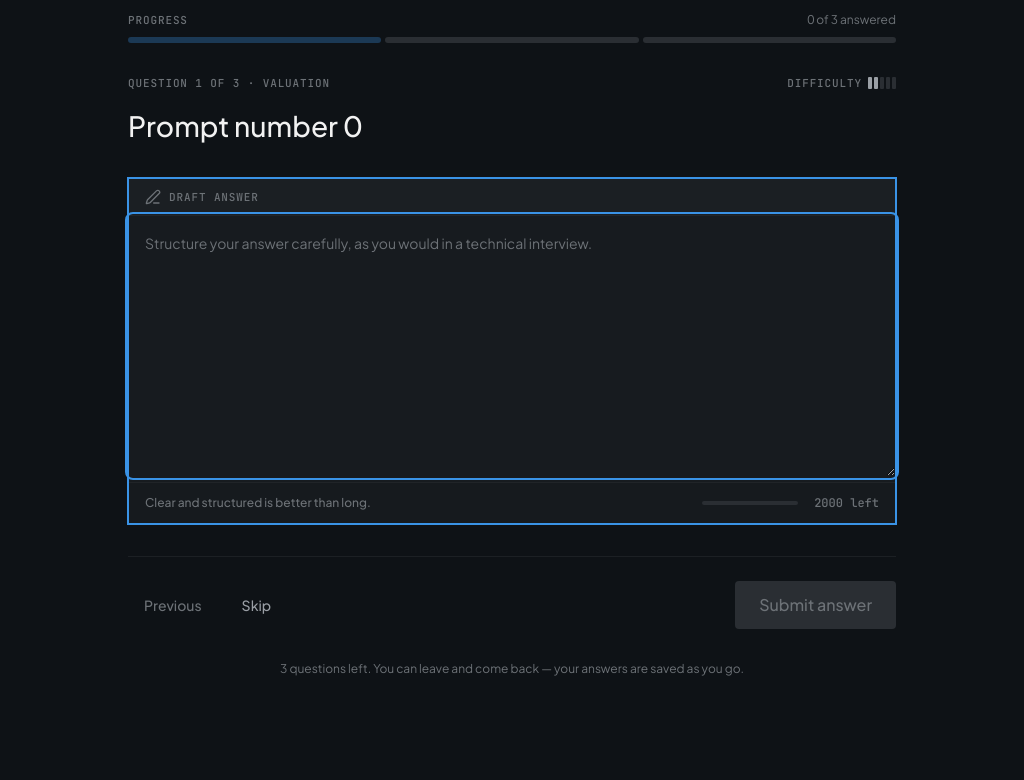
Test: DiagnosticRunner › keeps the answer in the box when submission fails
This screenshot has width=1024, height=780.
Replace the text in the text box labelled "your answer" with "Subtract net debt from enterprise value and add back cash equivalents." at (512, 346), box top-left (129, 216), bottom-right (895, 476)
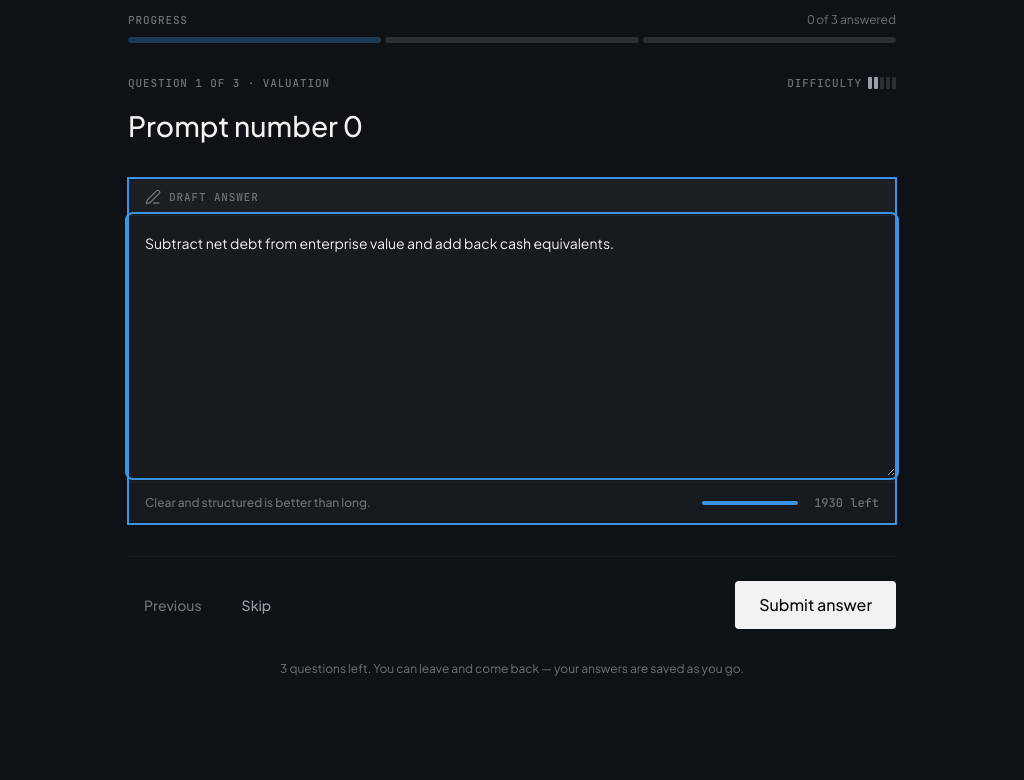
Click the button "Submit answer".
click(816, 604)  # box top-left (735, 580), bottom-right (896, 628)
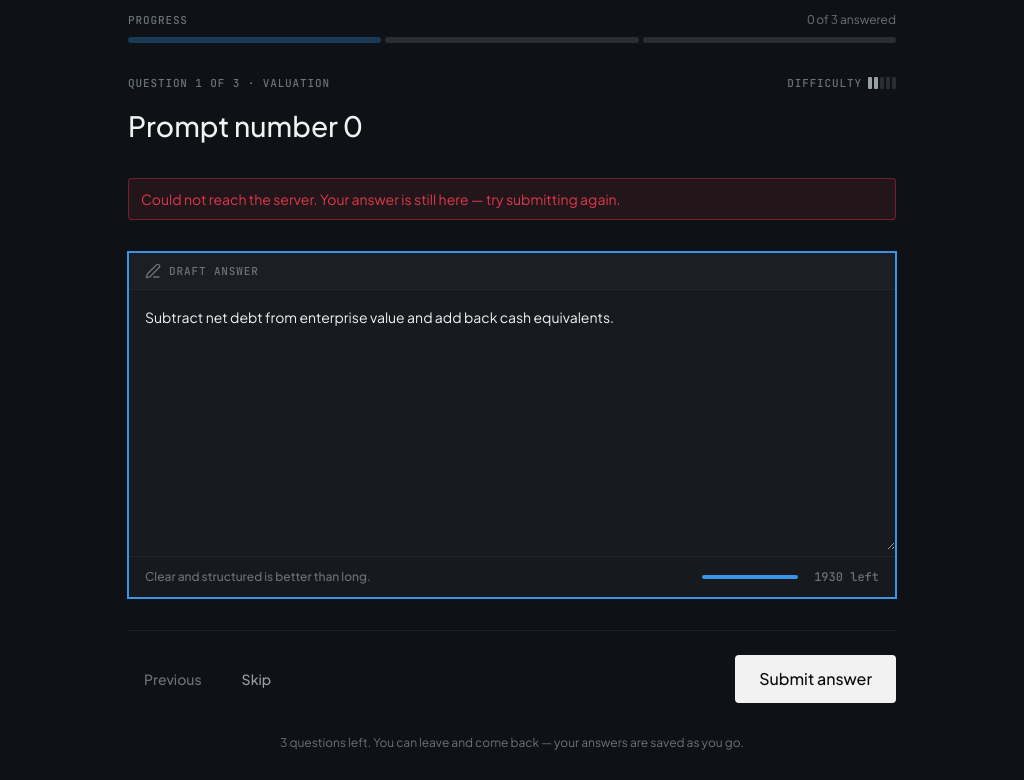
Expected: the message "Could not reach the server. Your answer is still here — try submitting again." is shown, top-left (128, 178), bottom-right (896, 220)
Expected: the message shows "still here", top-left (141, 190), bottom-right (621, 208)
